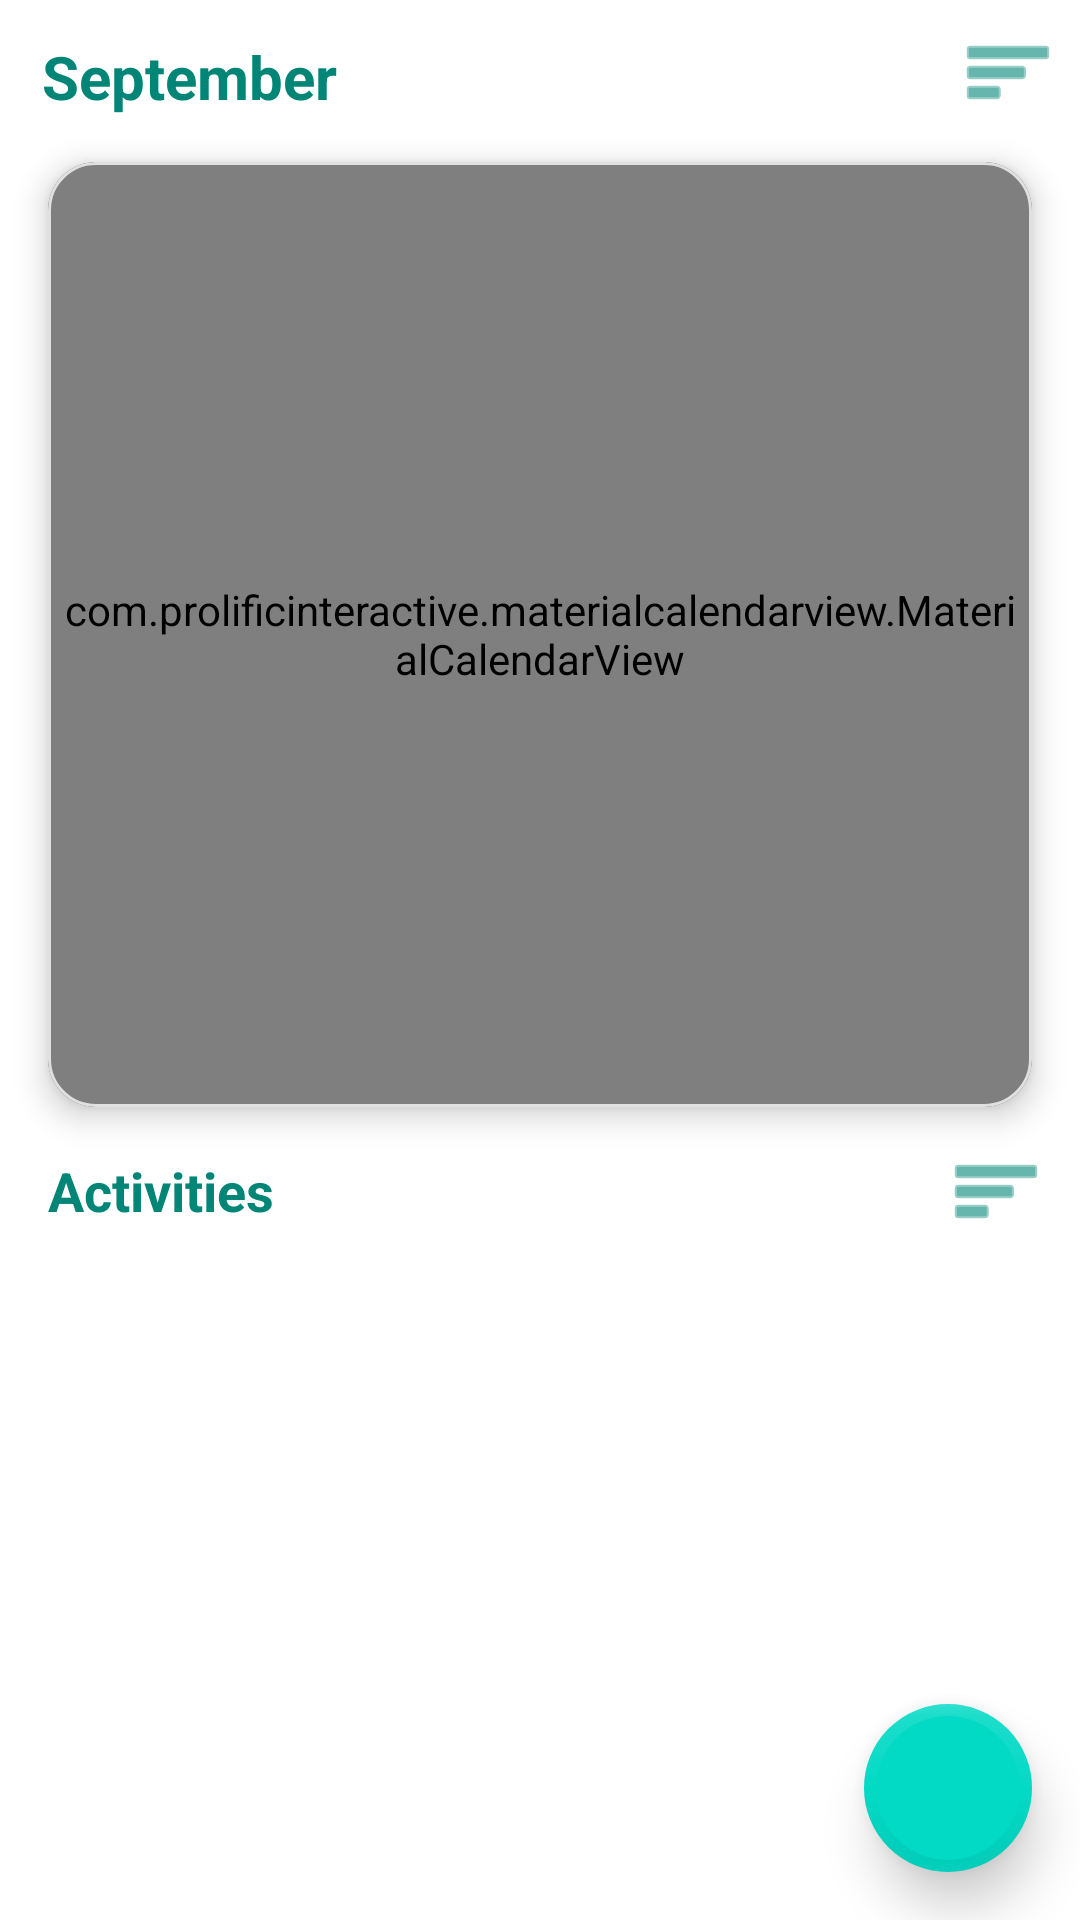

Icon bounding boxes for this 1080 x 1920 phone screenshot, format (x1,y1,x2,y2):
Filter: (967,46,1049,99)
Sort: (955,1165,1037,1218)
